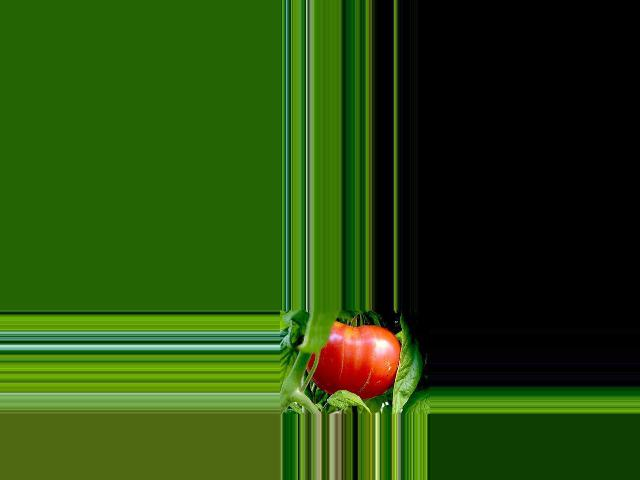tomato: (306, 321, 401, 399)
